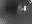person: (17, 5, 24, 16), (22, 6, 29, 15)
